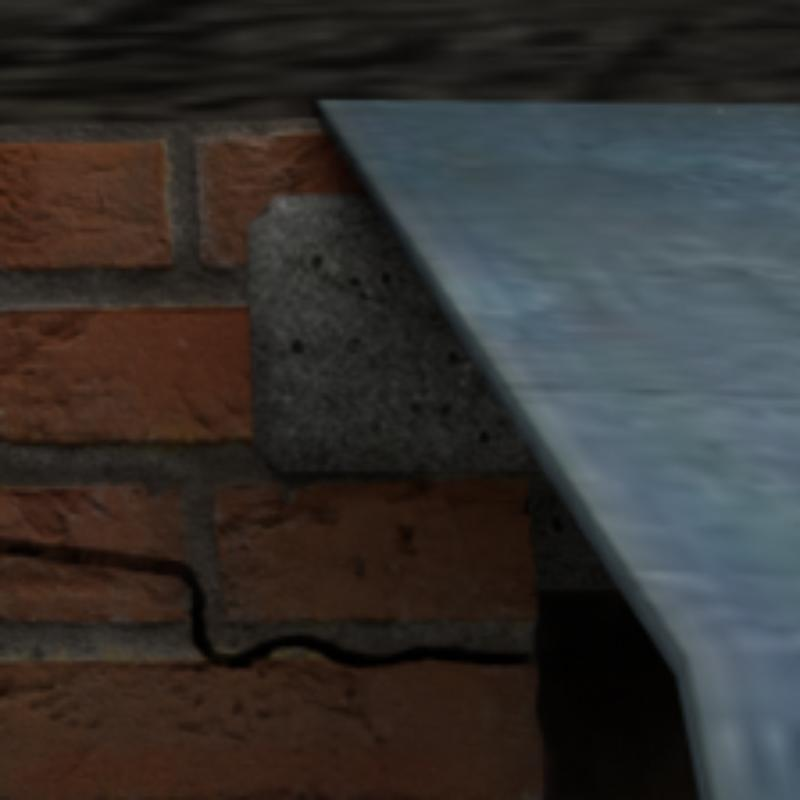pothole: (0, 539, 518, 664)
